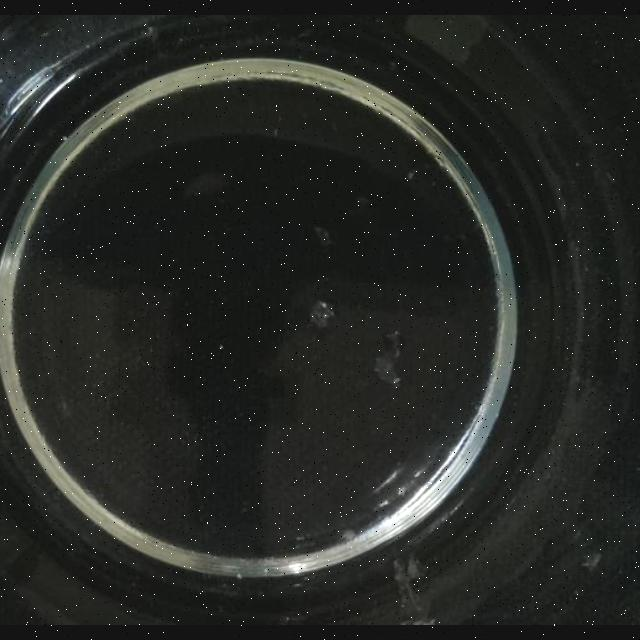Fibre: (395, 563, 435, 625), (372, 329, 404, 386), (394, 556, 424, 594), (308, 299, 336, 329), (312, 226, 333, 248)
microbeads: (581, 553, 601, 571), (340, 528, 358, 544), (272, 128, 278, 138)
